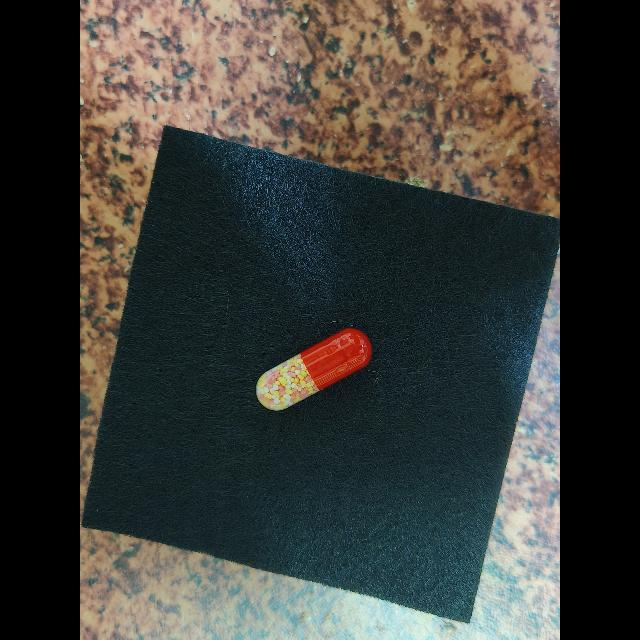Intact Capsule: (256, 328, 372, 411)
